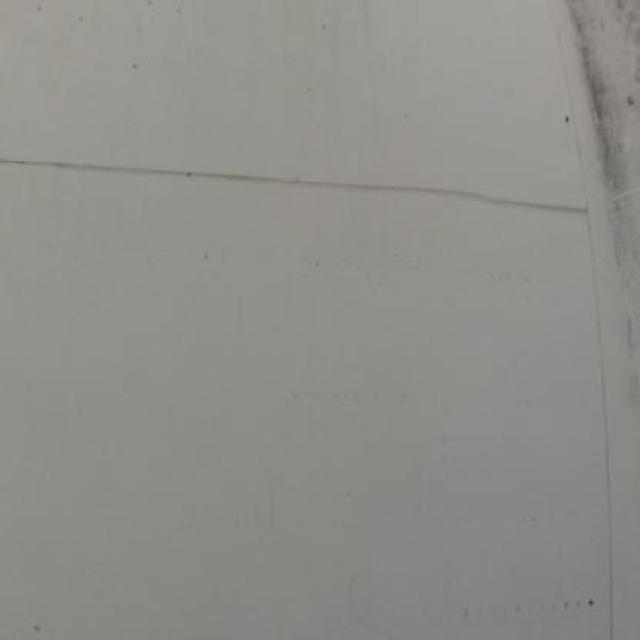Rust: (572, 7, 639, 322)
